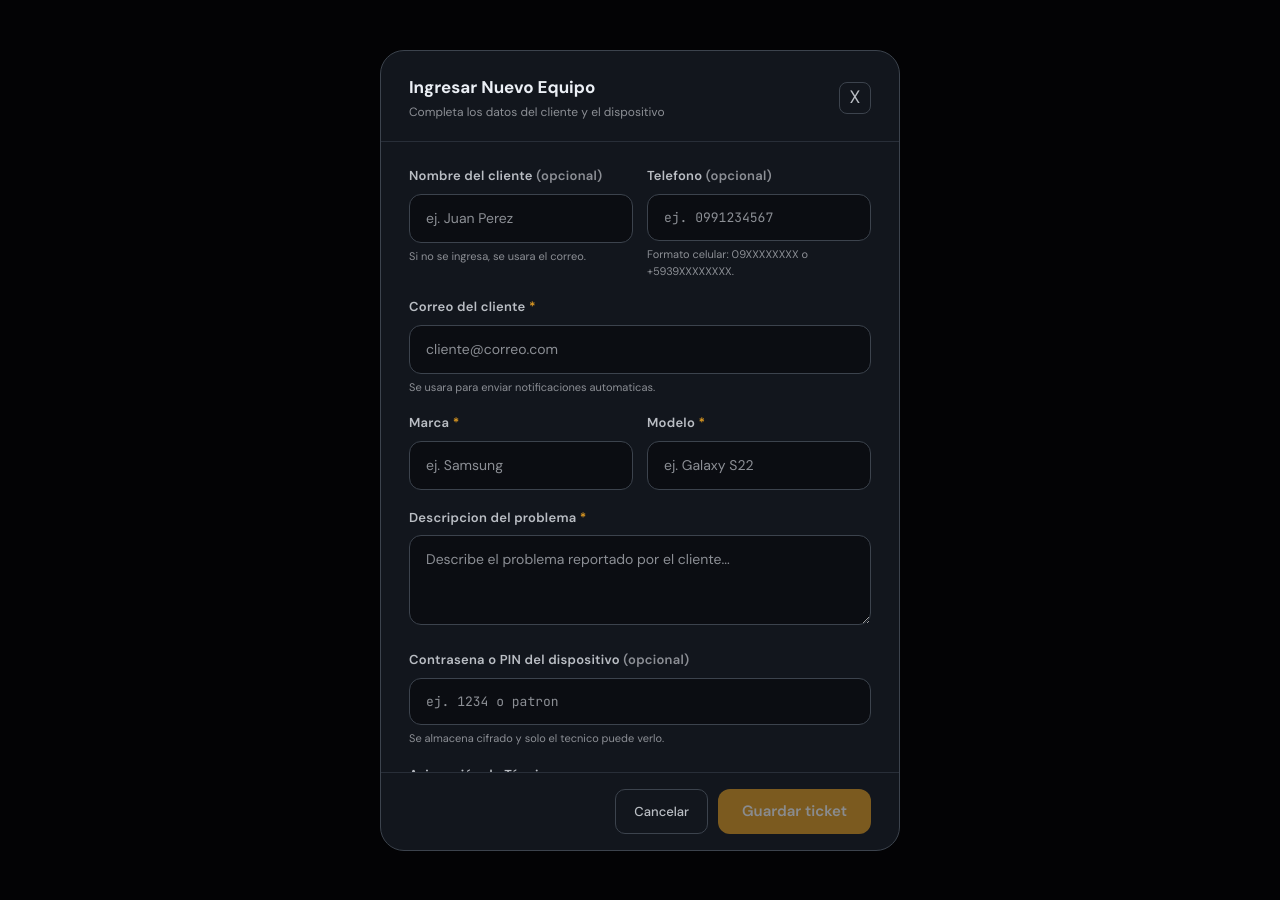
Test: NewTicketModal Component - Phone Validation › blocks submit and shows error if an invalid Ecuadorian mobile phone is entered
The image size is (1280, 900).
Fill required fields
Type "cliente@test.com" into the field with placeholder "cliente@correo.com" at (640, 349), box [409,324,871,374]
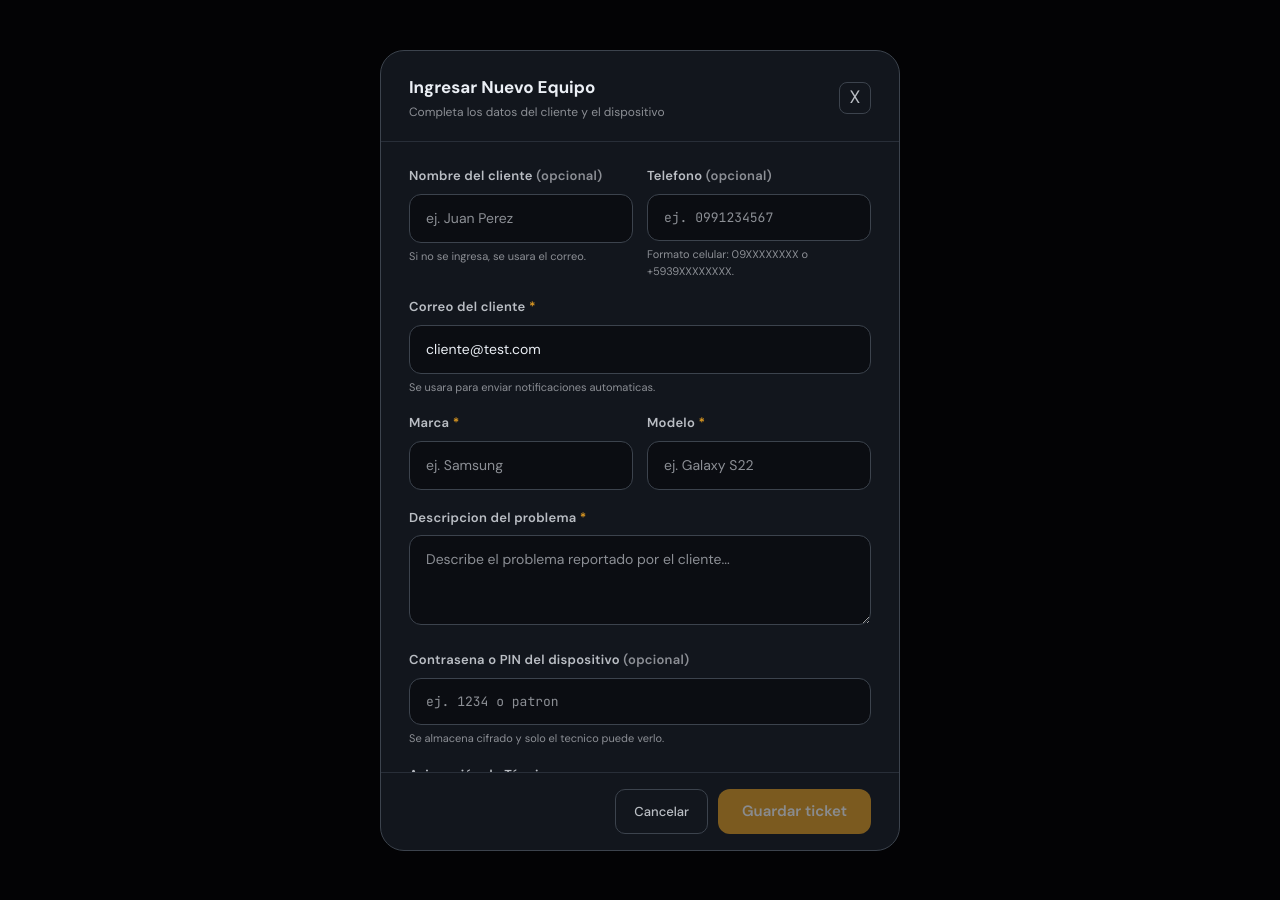
Type "Samsung" into the field with placeholder "ej. Samsung" at (521, 465), box [409,440,633,490]
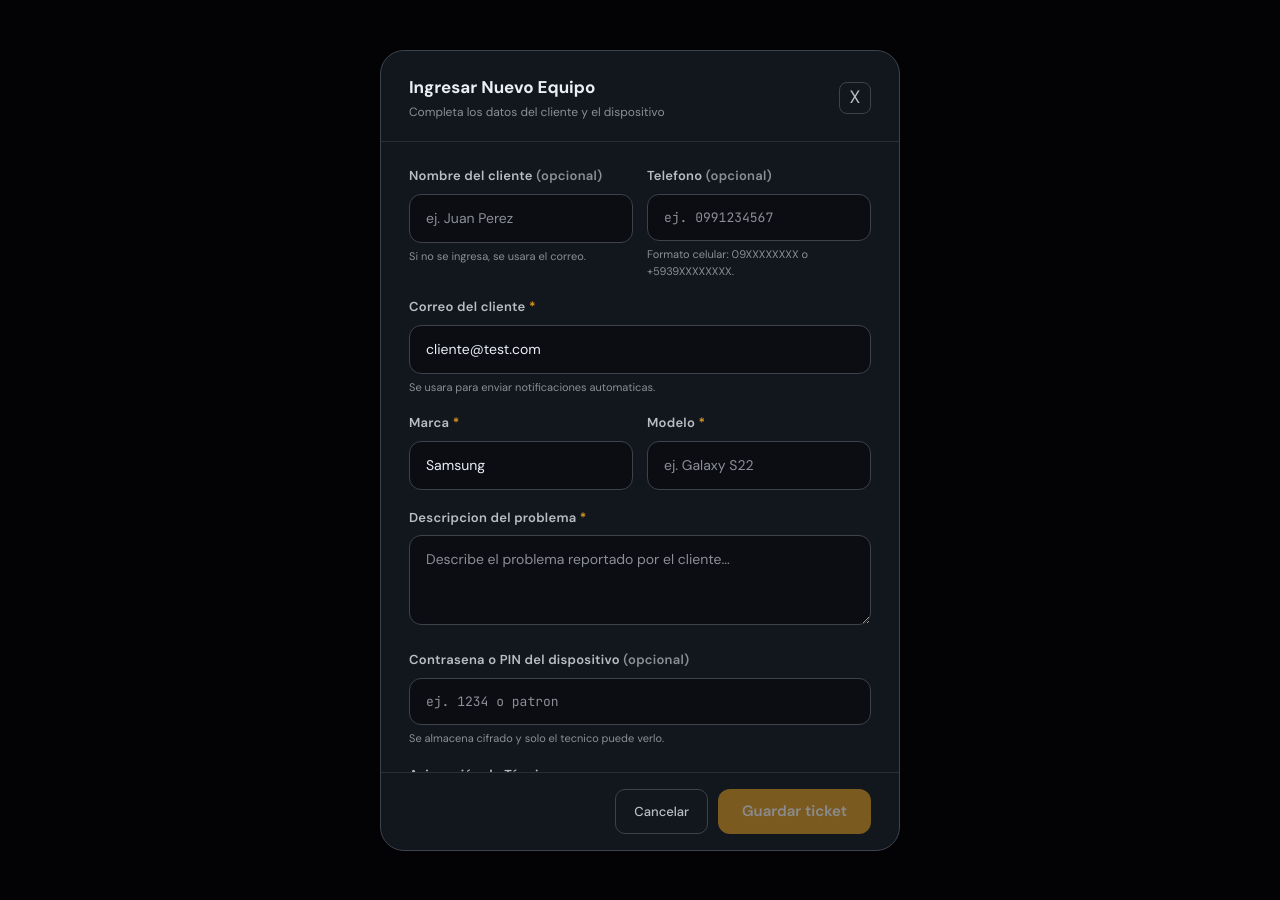
Type "Galaxy A12" into the field with placeholder "ej. Galaxy S22" at (759, 465), box [647,440,871,490]
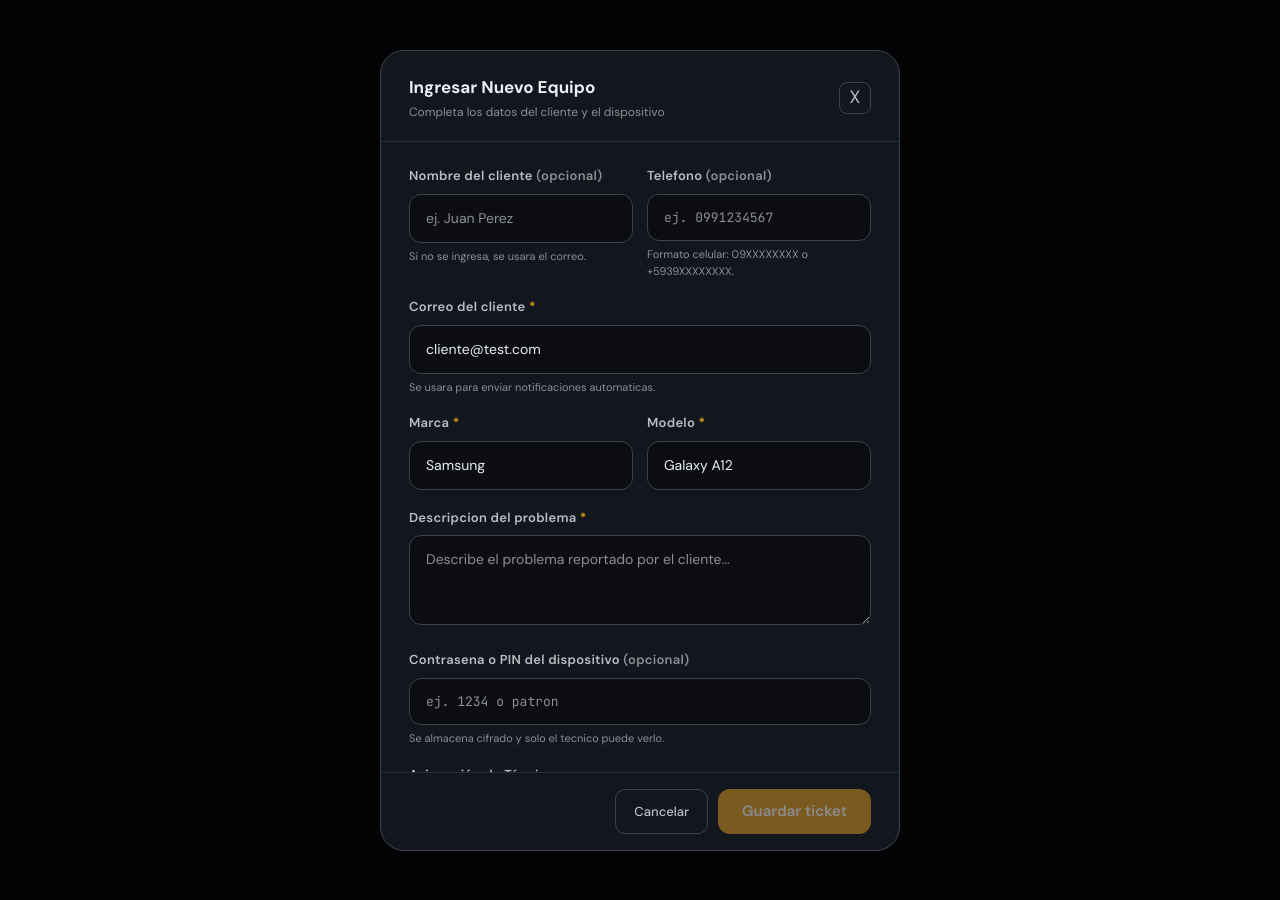
Type "Pantalla partida" into the text box with placeholder "Describe el problema reportado por el cliente..." at (640, 580), box [409,535,871,625]
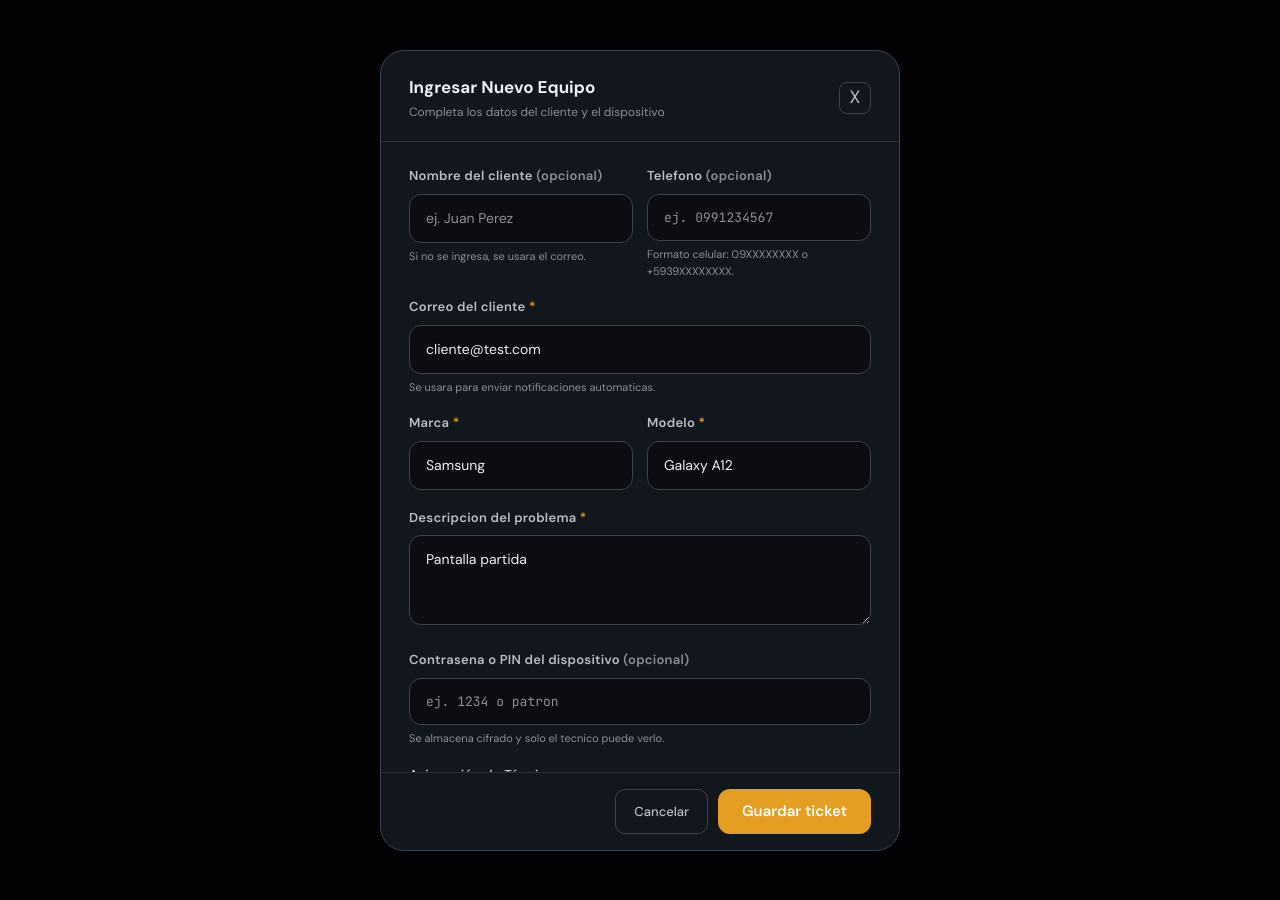
Enter invalid phone (landline or short)
Type "022345678" into the field with placeholder "ej. 0991234567" at (759, 217), box [647,194,871,241]
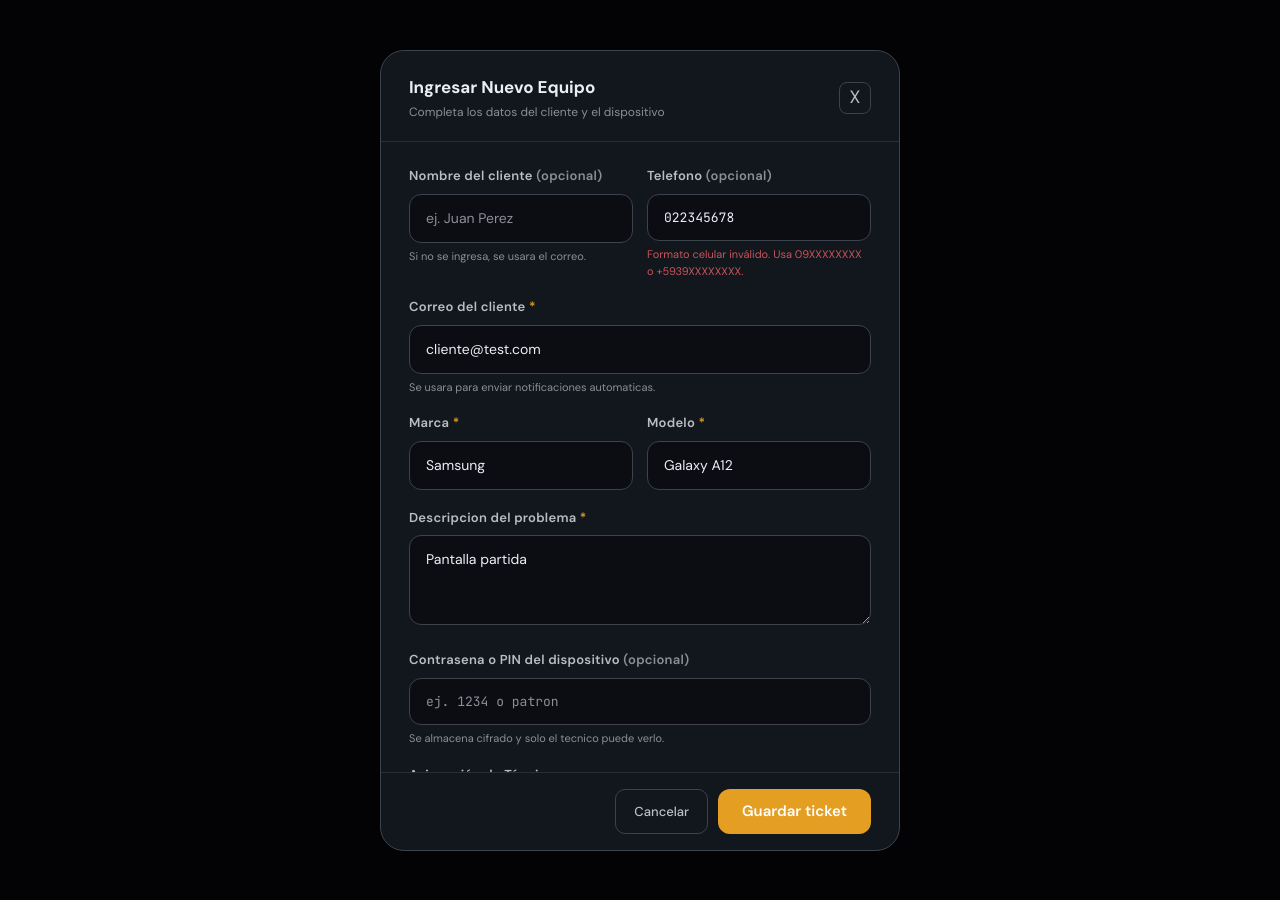
Click submit
Click the button "Guardar ticket" at (794, 811), box [718,789,871,834]
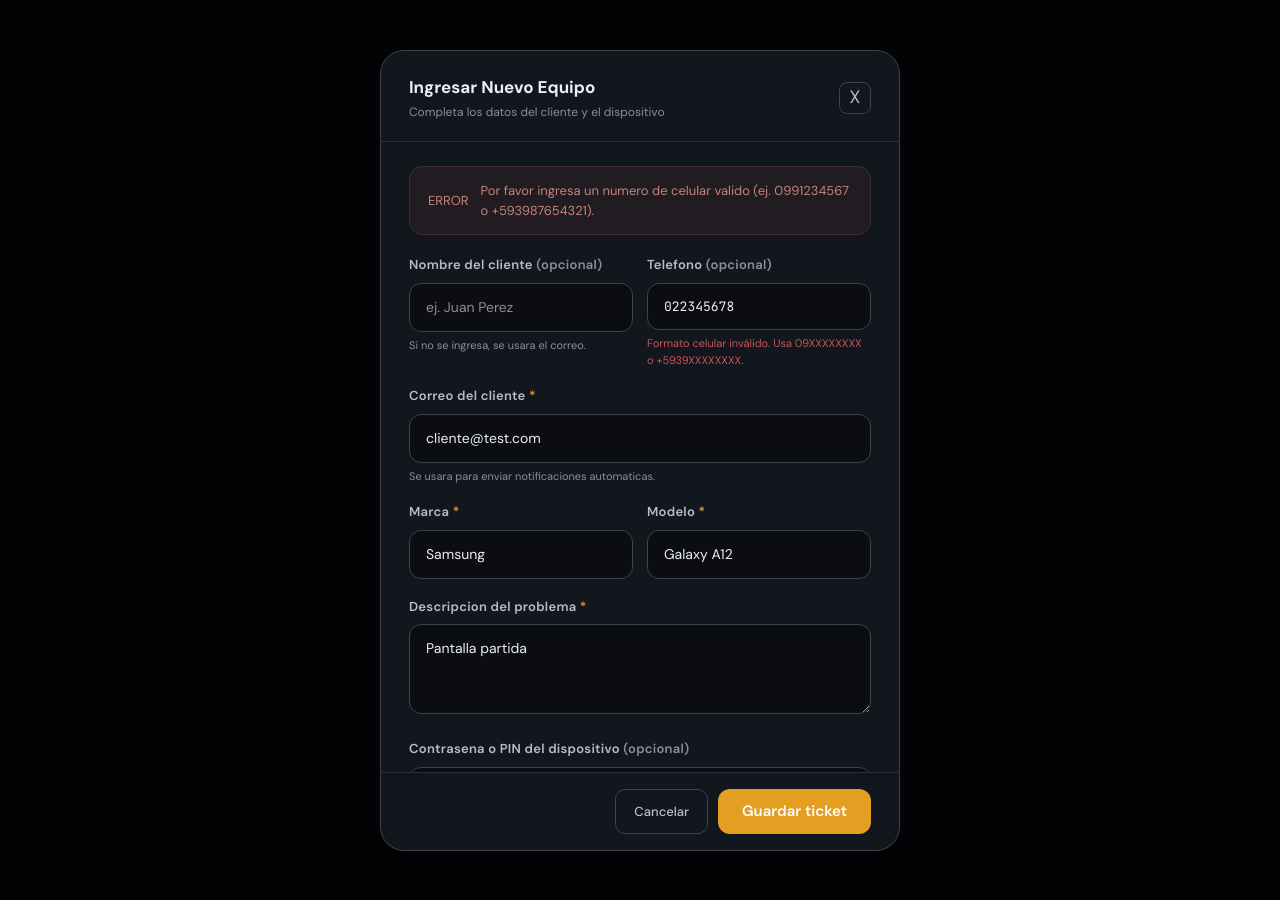
Expected: the text "Por favor ingresa un numero de celular valido" is shown, [481,182,849,218]
